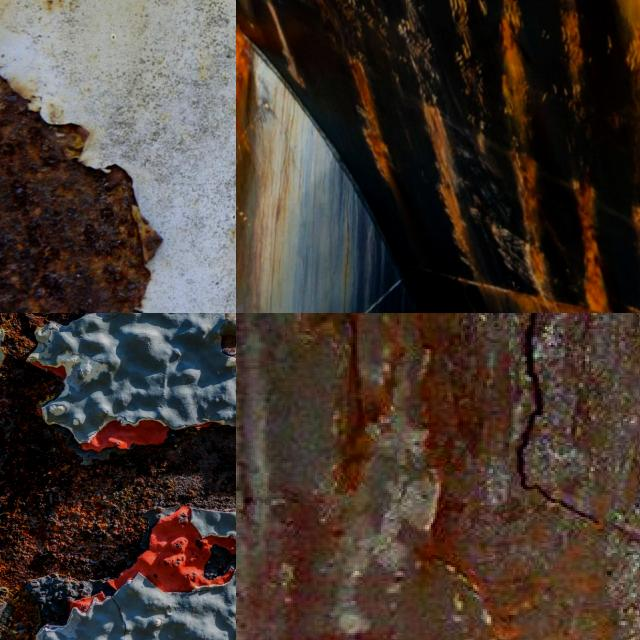Crack: (517, 313, 595, 521)
Pitting Corrosion: (0, 77, 149, 313)
Uniform Corrosion: (500, 0, 557, 298), (423, 102, 479, 277), (348, 52, 396, 193), (572, 179, 610, 311), (561, 2, 591, 121), (236, 23, 255, 167), (452, 0, 465, 36)
